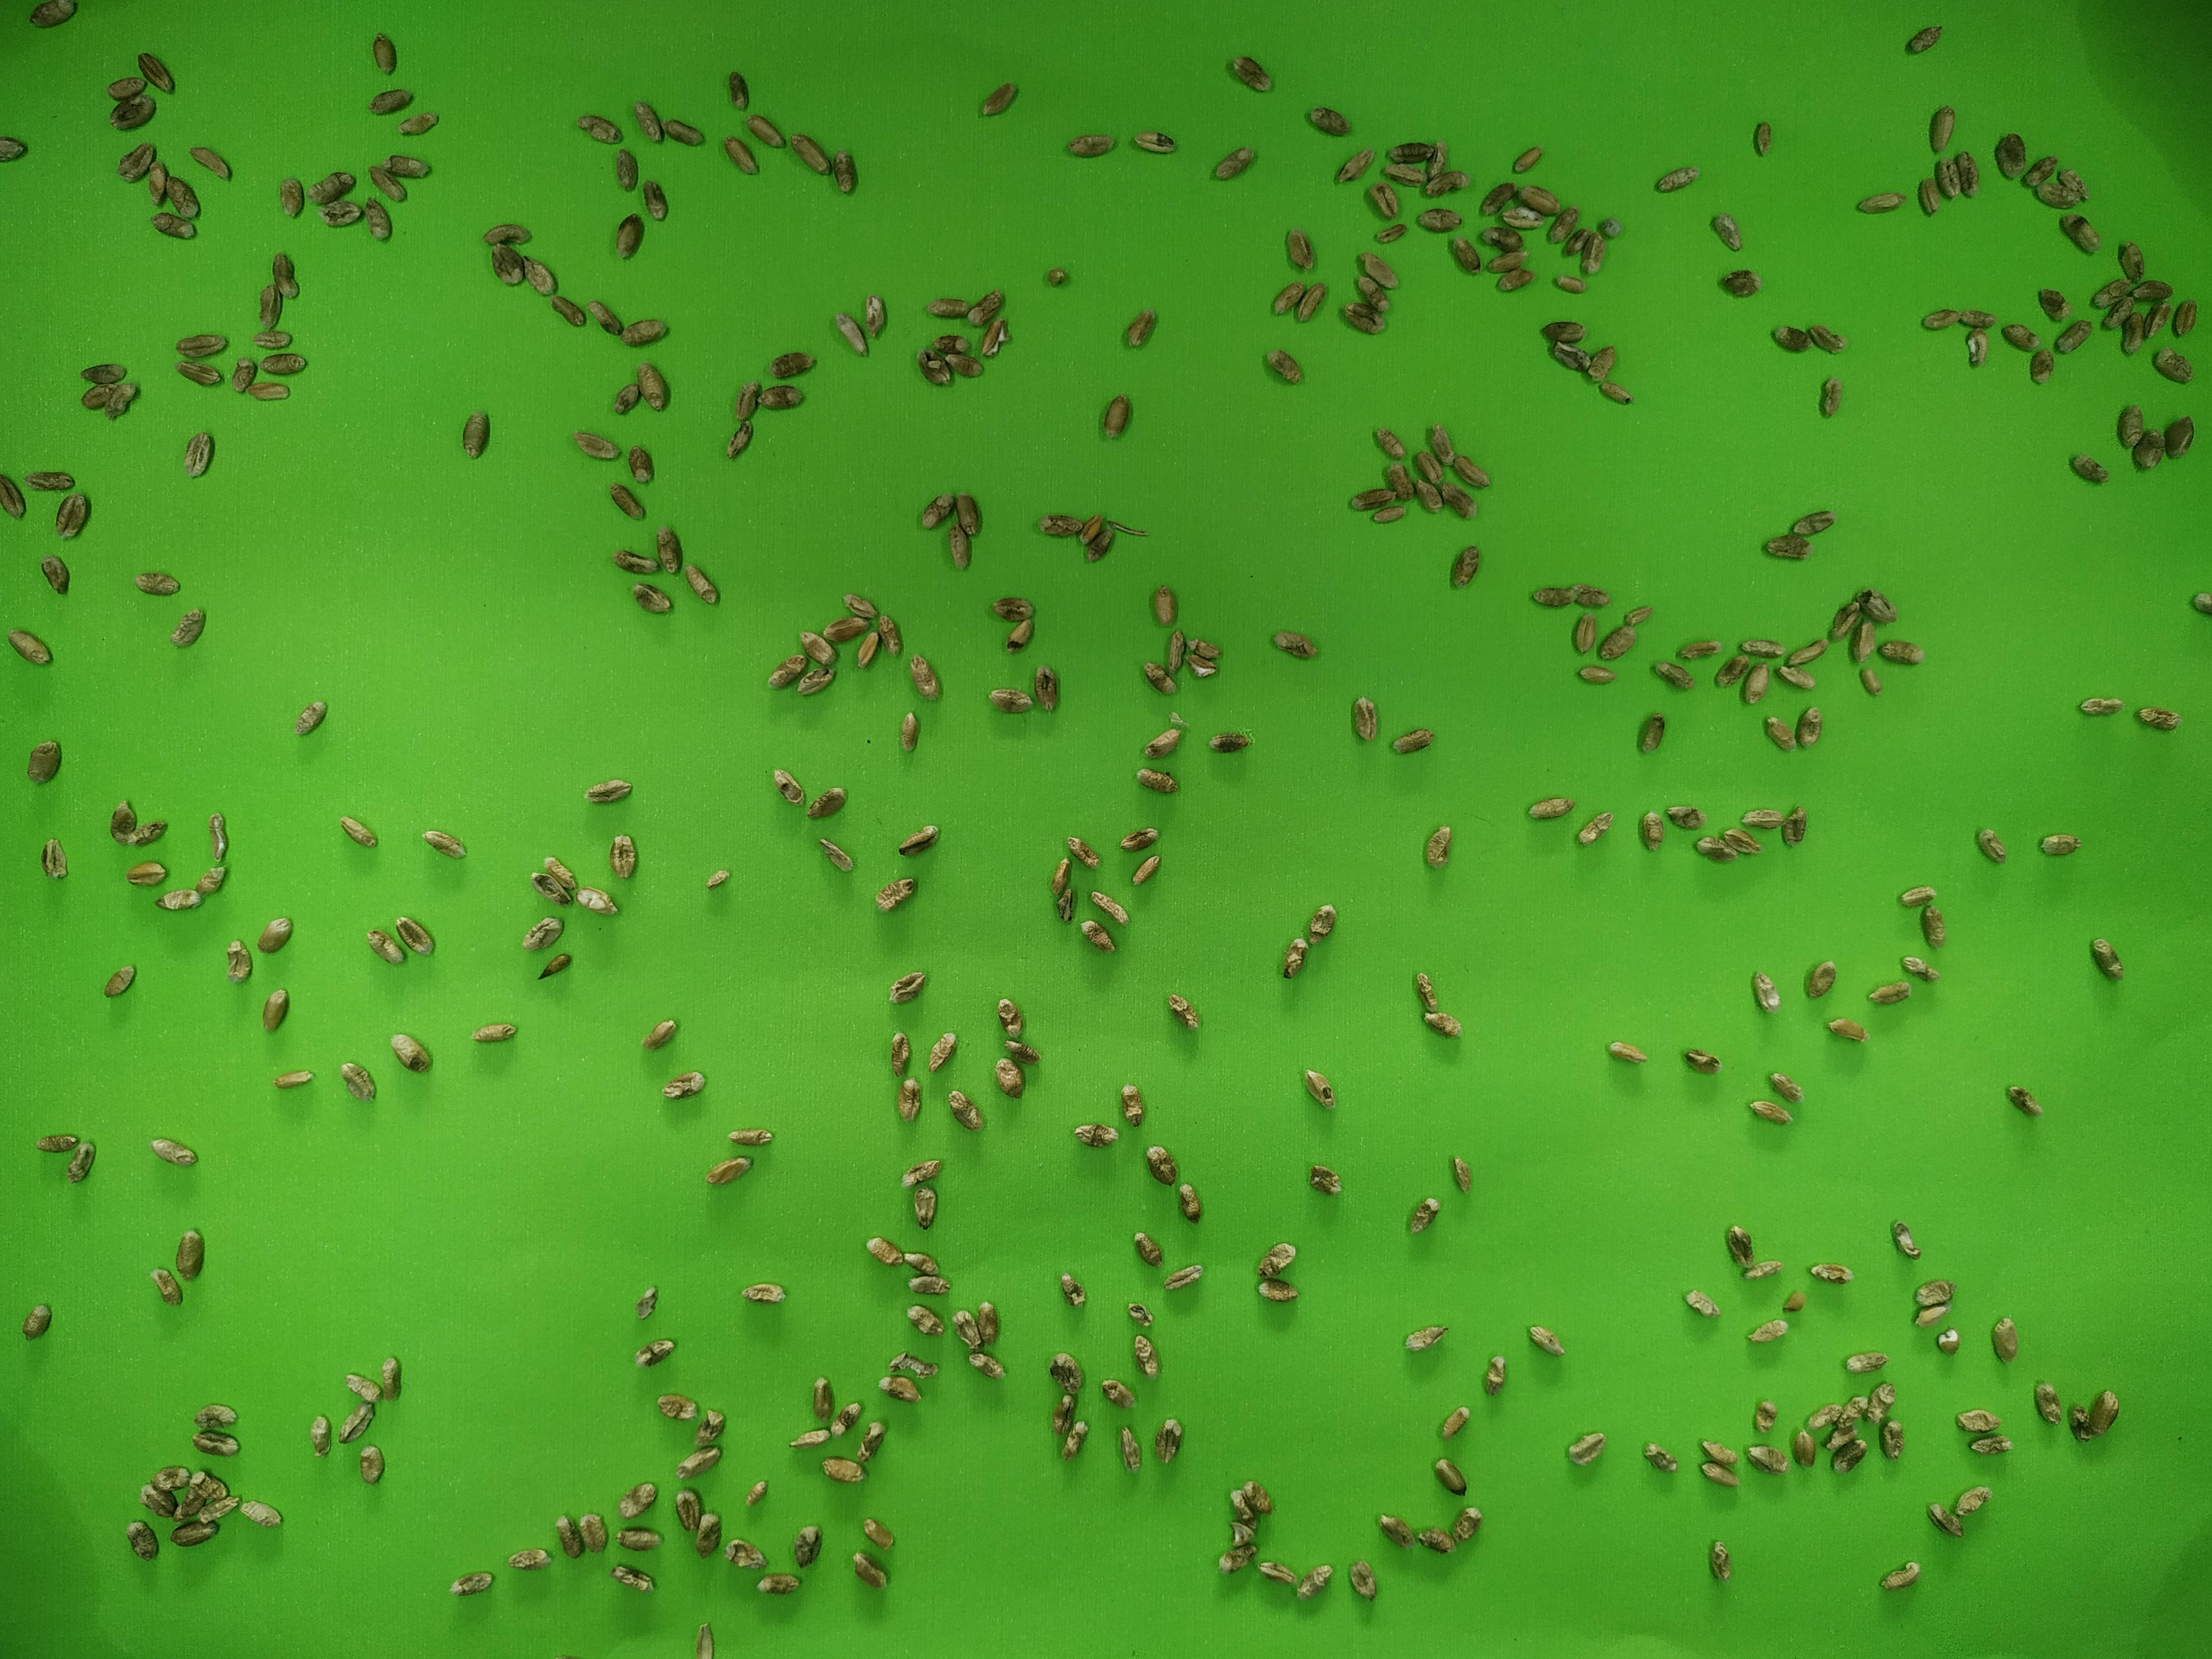danado: (815, 1449, 867, 1490), (1145, 577, 1182, 633), (1828, 1429, 1871, 1476), (2143, 347, 2196, 385), (719, 131, 761, 178), (3, 627, 55, 666), (55, 487, 92, 540), (1227, 51, 1273, 94), (534, 853, 575, 901), (1993, 128, 2030, 181), (2060, 210, 2103, 255), (872, 875, 920, 915), (388, 1029, 432, 1073), (1597, 620, 1641, 665), (786, 129, 831, 173), (888, 964, 931, 1009), (267, 248, 301, 305), (828, 142, 860, 201), (1333, 143, 1377, 187), (25, 737, 64, 786), (630, 360, 671, 407), (1282, 222, 1316, 278), (1601, 1032, 1650, 1071), (651, 522, 685, 578), (1987, 1310, 2020, 1366), (611, 207, 645, 262), (1744, 1439, 1794, 1477), (1053, 1413, 1092, 1462), (352, 1438, 389, 1489), (1144, 1138, 1180, 1190), (769, 648, 810, 692), (161, 172, 202, 217), (943, 1092, 988, 1133), (613, 1522, 666, 1557), (2088, 933, 2124, 985), (1447, 230, 1485, 278), (965, 288, 1008, 330), (1268, 276, 1310, 320), (133, 51, 176, 93), (2054, 314, 2095, 358), (459, 406, 491, 463), (1475, 179, 1520, 218), (123, 1517, 163, 1563), (915, 347, 957, 390), (848, 1550, 890, 1592), (1292, 1561, 1335, 1603), (988, 1056, 1030, 1099), (182, 427, 215, 482), (1140, 654, 1180, 698), (901, 1301, 946, 1341), (1100, 392, 1134, 444), (1925, 103, 1958, 158), (2028, 1376, 2063, 1428), (1735, 661, 1774, 706), (109, 95, 157, 132), (975, 82, 1020, 121), (748, 1568, 805, 1599), (891, 1072, 922, 1129), (906, 1178, 939, 1231), (1421, 821, 1453, 874), (830, 1392, 866, 1440), (1265, 343, 1302, 389), (924, 1029, 961, 1076), (1348, 692, 1380, 745), (337, 1402, 379, 1443), (861, 1232, 904, 1272), (1065, 129, 1116, 163), (950, 486, 980, 542), (1858, 587, 1902, 627), (1225, 1481, 1260, 1531), (131, 567, 184, 600), (808, 782, 852, 821), (908, 656, 944, 703), (831, 311, 869, 356), (147, 1134, 197, 1168), (2116, 401, 2148, 455), (950, 1305, 985, 1353), (740, 109, 786, 147), (116, 143, 156, 185), (1523, 792, 1575, 825), (792, 664, 839, 700), (1165, 988, 1201, 1035), (1046, 1352, 1084, 1396), (1354, 252, 1399, 289), (1647, 659, 1697, 692), (2034, 827, 2084, 861), (730, 374, 763, 426), (1922, 1505, 1968, 1541), (1120, 306, 1156, 352), (489, 243, 526, 289), (616, 1479, 660, 1517), (1130, 766, 1184, 797), (640, 174, 673, 225), (174, 1229, 207, 1280), (1113, 1425, 1146, 1475), (517, 258, 563, 294), (976, 314, 1010, 362), (919, 488, 957, 531), (1128, 1228, 1166, 1271), (877, 1371, 924, 1406), (676, 1444, 723, 1480), (624, 440, 658, 488), (693, 1405, 730, 1449), (1949, 1406, 2005, 1436), (1089, 891, 1134, 927), (1569, 1426, 1605, 1471), (981, 685, 1032, 717), (944, 521, 974, 575), (1030, 666, 1064, 713), (1306, 105, 1353, 139), (1129, 124, 1176, 159), (573, 883, 618, 919), (2114, 237, 2150, 283), (1873, 1415, 1909, 1460), (605, 480, 646, 520), (1340, 296, 1382, 335), (1748, 967, 1781, 1017), (122, 856, 172, 889), (1162, 1260, 1210, 1294), (576, 112, 624, 145), (884, 1029, 916, 1080), (1406, 1193, 1443, 1237), (858, 289, 890, 340), (1173, 1181, 1208, 1228), (200, 813, 236, 858), (655, 1388, 700, 1424), (1548, 338, 1589, 378), (1375, 1512, 1415, 1552), (145, 1265, 186, 1305), (2004, 1081, 2045, 1120), (362, 927, 403, 967), (1154, 1415, 1186, 1465), (737, 1278, 790, 1308), (628, 98, 666, 141), (1719, 264, 1762, 301), (1413, 204, 1465, 234), (660, 1068, 708, 1102), (768, 348, 816, 382), (1447, 545, 1483, 589), (543, 293, 589, 327), (808, 1373, 839, 1425), (618, 316, 669, 347), (1217, 1540, 1261, 1576), (1634, 806, 1667, 855), (174, 356, 221, 390), (1722, 826, 1767, 861), (1772, 805, 1811, 846), (1803, 1396, 1844, 1434), (2067, 451, 2109, 488), (1477, 220, 1526, 252), (1270, 628, 1318, 661), (1410, 443, 1447, 486), (1838, 1347, 1889, 1378), (1129, 849, 1165, 892), (338, 1059, 374, 1102), (147, 211, 201, 240), (2129, 274, 2175, 309), (1114, 1080, 1149, 1126), (1709, 210, 1744, 255), (1142, 725, 1186, 761), (143, 154, 174, 205), (2024, 152, 2063, 192), (1071, 1118, 1120, 1150), (40, 548, 72, 597), (225, 941, 258, 988), (572, 426, 614, 463), (258, 912, 294, 954), (172, 603, 205, 651), (1301, 1065, 1333, 1114), (1805, 1258, 1854, 1290), (1422, 166, 1471, 198), (261, 347, 310, 379), (1584, 343, 1620, 387), (520, 915, 564, 950), (607, 149, 642, 192), (199, 1490, 243, 1526), (1844, 621, 1883, 660), (1435, 1402, 1473, 1443), (383, 153, 436, 182), (395, 919, 436, 956), (794, 1520, 824, 1572), (857, 1515, 899, 1552), (1060, 834, 1102, 870), (629, 582, 677, 613), (468, 1016, 515, 1048), (359, 198, 395, 241), (675, 1482, 705, 1532), (2088, 279, 2133, 312), (333, 813, 377, 849), (638, 1015, 681, 1051), (1744, 1094, 1791, 1126), (1698, 1460, 1745, 1492), (1381, 458, 1416, 502), (1352, 273, 1391, 312), (1713, 652, 1753, 690), (1572, 608, 1601, 659), (1131, 1329, 1161, 1380), (1949, 1483, 1994, 1517), (1825, 1013, 1869, 1047), (1910, 1279, 1958, 1310), (582, 774, 630, 806), (902, 1154, 943, 1191), (1972, 824, 2008, 865), (704, 1156, 754, 1187), (726, 1537, 767, 1574), (1801, 957, 1835, 1002), (2119, 311, 2151, 358), (959, 1351, 1011, 1380), (1572, 660, 1619, 692), (66, 1132, 93, 1187), (189, 142, 232, 176), (1904, 22, 1944, 60), (2159, 415, 2197, 455), (613, 1561, 654, 1598), (292, 698, 328, 739), (255, 281, 288, 327), (1538, 317, 1584, 349), (1077, 918, 1119, 953), (533, 948, 575, 983), (1305, 900, 1338, 945), (1252, 1276, 1302, 1306), (755, 382, 808, 410), (1401, 1321, 1448, 1353), (1448, 456, 1493, 489), (1698, 1437, 1738, 1474), (504, 1545, 554, 1574), (552, 1513, 586, 1557), (1547, 202, 1580, 246), (692, 1510, 723, 1557), (2025, 344, 2057, 390), (1856, 187, 1905, 217), (447, 1568, 497, 1598), (589, 298, 625, 339), (1876, 1561, 1923, 1592), (418, 828, 466, 858), (1305, 1161, 1344, 1199), (1347, 1555, 1378, 1602), (1431, 1458, 1469, 1497), (366, 86, 413, 117), (1833, 1394, 1870, 1433), (1680, 1045, 1723, 1079), (238, 1497, 283, 1529), (1203, 726, 1252, 756), (771, 765, 807, 805), (683, 564, 719, 604), (1681, 1286, 1720, 1322), (818, 839, 858, 875), (719, 70, 755, 110), (1421, 1003, 1462, 1039), (796, 630, 837, 665), (1761, 713, 1797, 754), (1494, 265, 1540, 296), (192, 1429, 238, 1460), (577, 1507, 608, 1553), (722, 421, 755, 465), (1478, 1352, 1510, 1396), (1280, 934, 1309, 983), (2089, 1387, 2124, 1430), (140, 1478, 174, 1520), (1815, 375, 1846, 422), (1390, 724, 1437, 755), (1347, 484, 1392, 517), (945, 350, 987, 384), (311, 171, 353, 205), (1215, 145, 1258, 179), (1371, 425, 1408, 463), (2033, 285, 2071, 323), (375, 1354, 403, 1405), (1415, 472, 1446, 518), (1867, 1379, 1898, 1425), (921, 291, 970, 321), (156, 885, 205, 914), (907, 1265, 948, 1300), (1641, 1441, 1682, 1475), (631, 1336, 675, 1369), (41, 833, 68, 886), (872, 613, 906, 654), (1998, 319, 2039, 353), (177, 328, 223, 359), (1098, 1378, 1142, 1410), (227, 353, 260, 395), (1230, 1499, 1259, 1548), (858, 1416, 891, 1458), (1790, 507, 1837, 537), (995, 994, 1026, 1039), (1743, 117, 1778, 157), (1447, 1504, 1483, 1543), (1826, 599, 1859, 642), (1745, 1316, 1791, 1347), (103, 71, 148, 102), (987, 592, 1034, 622), (2078, 691, 2125, 721), (1876, 636, 1926, 664), (2142, 296, 2172, 343), (1788, 1426, 1820, 1470), (1004, 614, 1036, 658), (169, 1517, 213, 1549), (1771, 321, 1813, 354), (608, 378, 642, 419), (1575, 812, 1617, 846), (1915, 173, 1945, 218), (28, 0, 74, 30), (1954, 149, 1980, 201), (968, 1299, 1001, 1341), (2129, 705, 2180, 732), (322, 193, 360, 229), (2098, 298, 2137, 333), (895, 825, 938, 857), (483, 219, 533, 247), (1258, 1241, 1298, 1276), (1426, 421, 1458, 465), (1704, 1536, 1733, 1584), (821, 615, 869, 644), (98, 383, 139, 416), (1918, 905, 1949, 950), (1652, 166, 1702, 194), (1526, 1321, 1563, 1359), (1795, 704, 1823, 753), (1765, 529, 1807, 562), (2171, 296, 2202, 340), (102, 962, 137, 1001), (1888, 1219, 1919, 1264), (1518, 184, 1564, 213), (368, 28, 396, 77), (263, 982, 289, 1034), (191, 1402, 241, 1430), (1865, 980, 1913, 1008), (2134, 426, 2164, 470), (1663, 802, 1707, 832), (1295, 278, 1326, 322), (186, 1469, 232, 1498), (1768, 1065, 1802, 1105), (2064, 1403, 2095, 1446), (1525, 583, 1577, 609), (109, 798, 138, 844), (893, 709, 921, 756), (1439, 482, 1478, 517), (854, 630, 885, 672), (659, 114, 698, 148), (1425, 137, 1453, 183), (242, 379, 296, 404), (2036, 175, 2076, 208), (1379, 164, 1427, 191), (1001, 1038, 1042, 1070), (397, 107, 438, 139), (1749, 1392, 1777, 1439), (1031, 513, 1082, 538), (149, 1464, 192, 1494), (1255, 1558, 1298, 1588), (22, 1300, 51, 1343), (1967, 1430, 2014, 1458), (1244, 1479, 1276, 1520), (1082, 515, 1110, 561), (1544, 272, 1593, 299), (1509, 140, 1545, 175), (279, 170, 303, 223), (741, 1475, 779, 1509), (1774, 660, 1815, 691), (1117, 823, 1159, 854), (307, 1408, 332, 1459), (29, 1131, 79, 1156), (1933, 156, 1961, 202), (1723, 1223, 1754, 1265), (607, 547, 653, 575), (1918, 305, 1963, 333), (1896, 952, 1941, 980), (1735, 636, 1788, 660), (1739, 805, 1787, 832), (1673, 635, 1720, 662), (26, 468, 74, 494), (1893, 884, 1938, 911), (1164, 623, 1189, 674), (1803, 326, 1848, 353), (127, 820, 169, 849), (1597, 377, 1634, 409), (1047, 1394, 1076, 1436), (1486, 247, 1531, 274), (1419, 1525, 1460, 1554), (1741, 1257, 1788, 1283), (1637, 712, 1663, 758), (891, 1350, 935, 1379), (900, 1248, 940, 1279), (366, 160, 401, 195), (170, 1487, 205, 1522), (1384, 139, 1433, 164), (722, 1124, 773, 1147), (0, 478, 30, 518), (1695, 832, 1735, 862), (192, 863, 230, 895), (1366, 183, 1400, 218), (253, 322, 293, 352), (80, 363, 125, 389), (1579, 234, 1608, 276), (606, 836, 639, 871), (338, 1372, 383, 1399), (841, 589, 878, 622), (1785, 640, 1831, 665), (270, 1066, 316, 1091), (1373, 217, 1408, 248), (1059, 1272, 1087, 1312), (1854, 662, 1885, 698), (1566, 583, 1613, 606), (1447, 1157, 1477, 1194), (1124, 1299, 1158, 1331), (928, 333, 974, 357), (1414, 971, 1440, 1013), (690, 1619, 717, 1659), (634, 1281, 661, 1321), (1050, 852, 1073, 898), (1933, 1325, 1961, 1361), (1911, 1303, 1954, 1327), (1965, 326, 1988, 371), (1186, 637, 1224, 662), (1958, 305, 2001, 327), (1562, 226, 1588, 262), (785, 1428, 833, 1448), (1503, 208, 1543, 231), (1043, 261, 1073, 291), (1056, 882, 1077, 926), (1186, 658, 1222, 682), (1621, 603, 1657, 627), (2062, 168, 2088, 199), (1369, 504, 1405, 526), (703, 867, 735, 889), (1594, 215, 1622, 239)
impureza: (1108, 517, 1152, 538)
partido: (1782, 1285, 1810, 1313)
